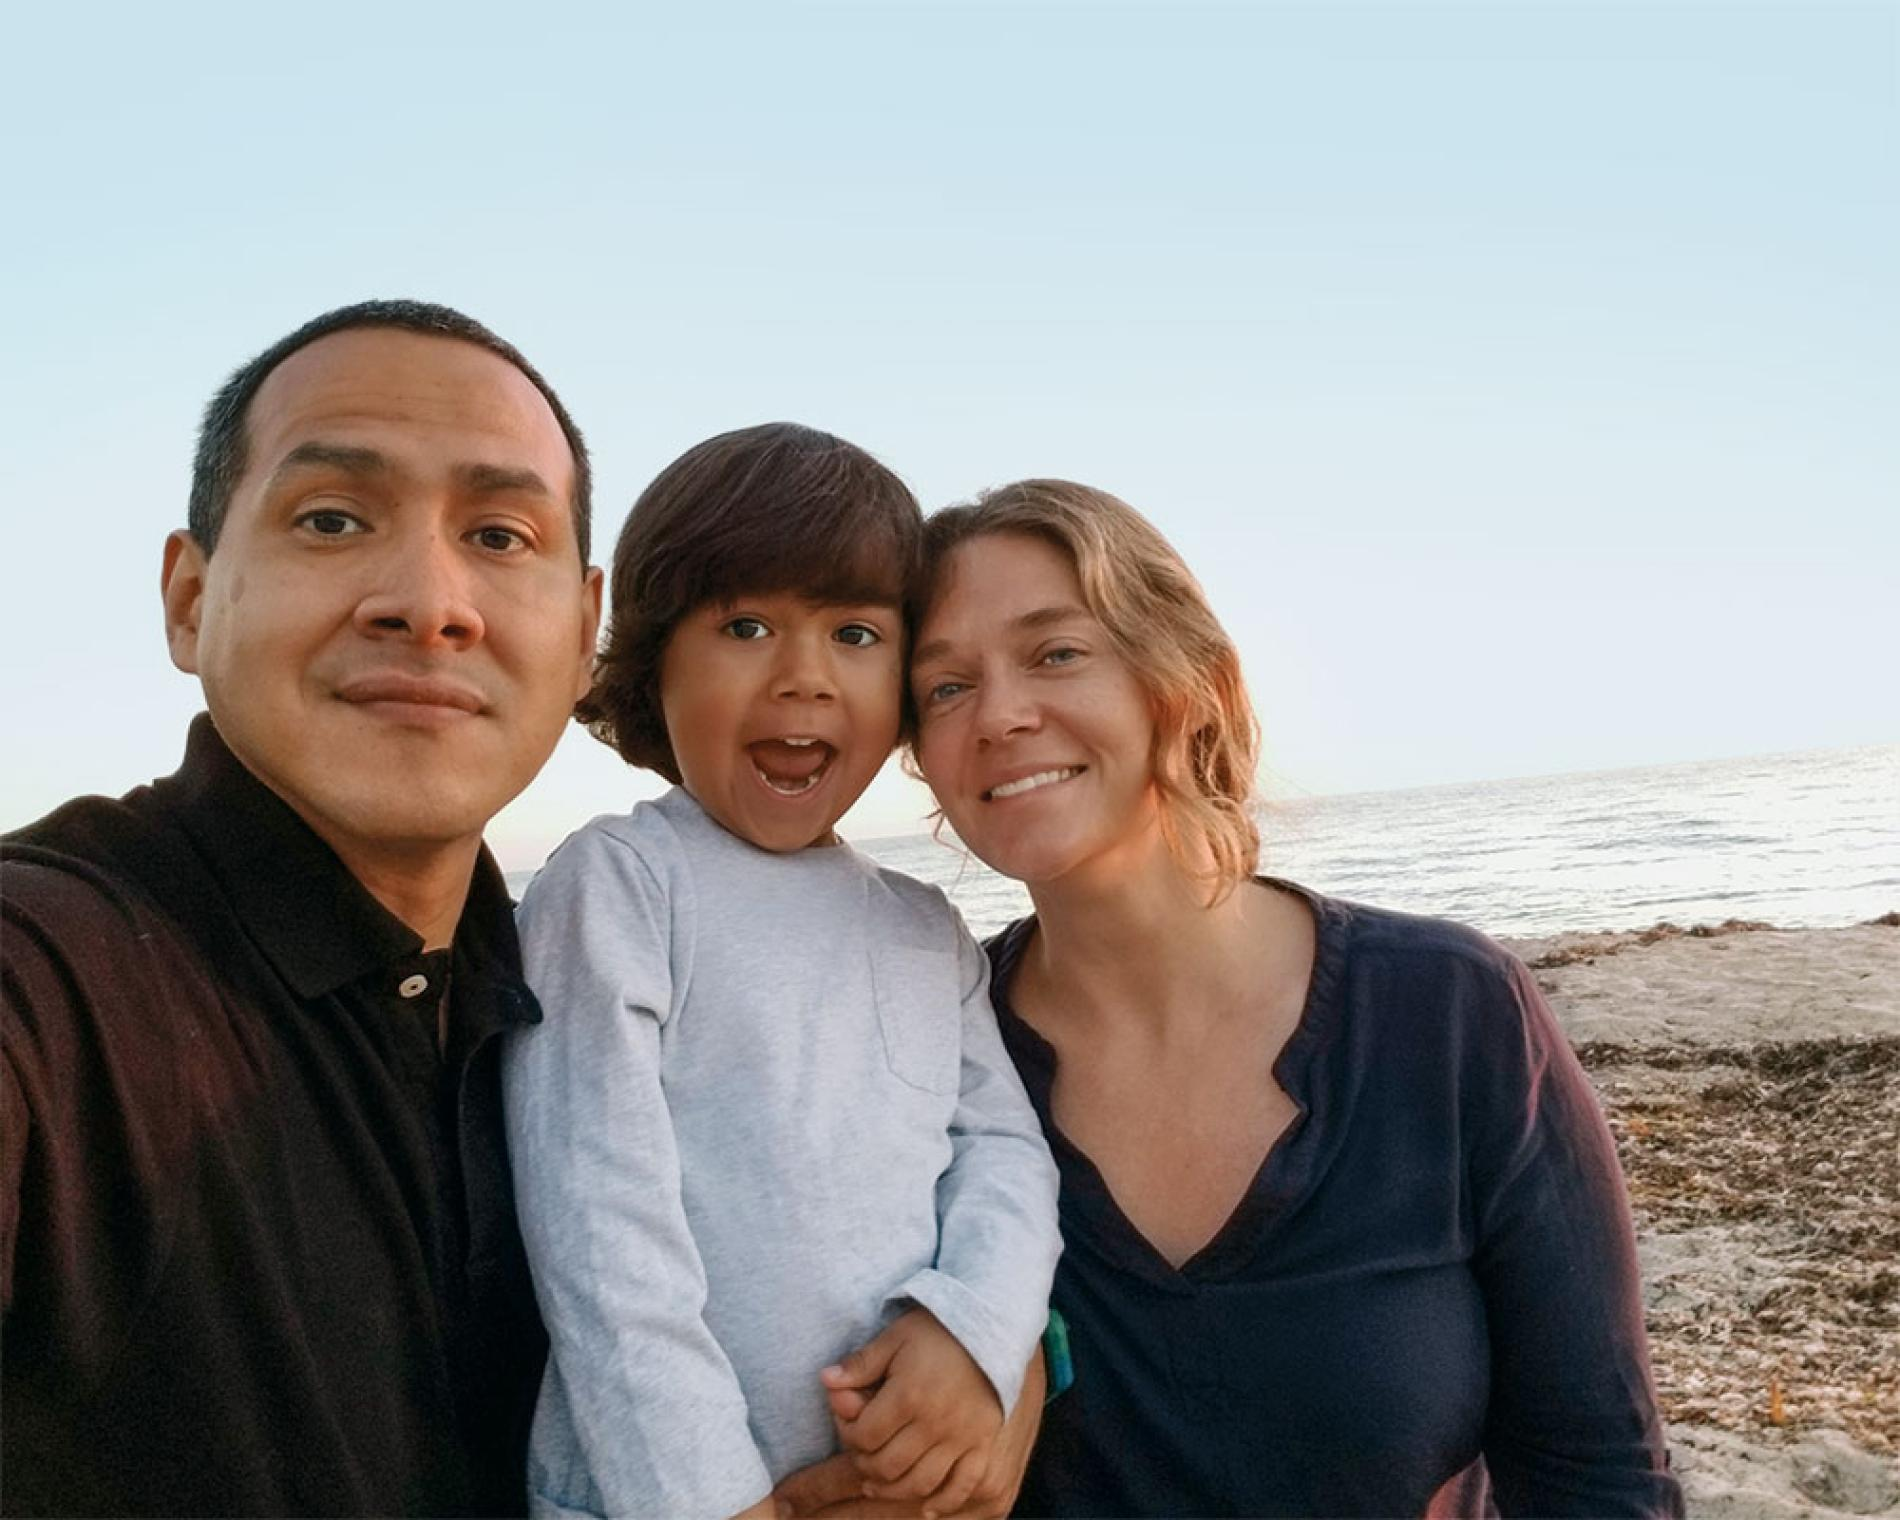face: (199, 338, 579, 845), (911, 536, 1158, 882), (663, 581, 899, 853)
